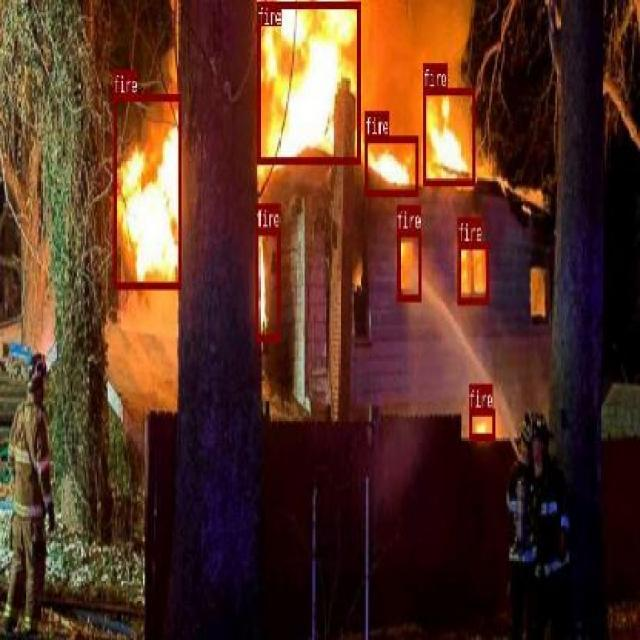Fire: (256, 1, 359, 162), (112, 93, 180, 287), (422, 88, 476, 184), (364, 136, 418, 195), (256, 227, 278, 341), (458, 240, 488, 302), (395, 229, 420, 300), (468, 408, 494, 438)
